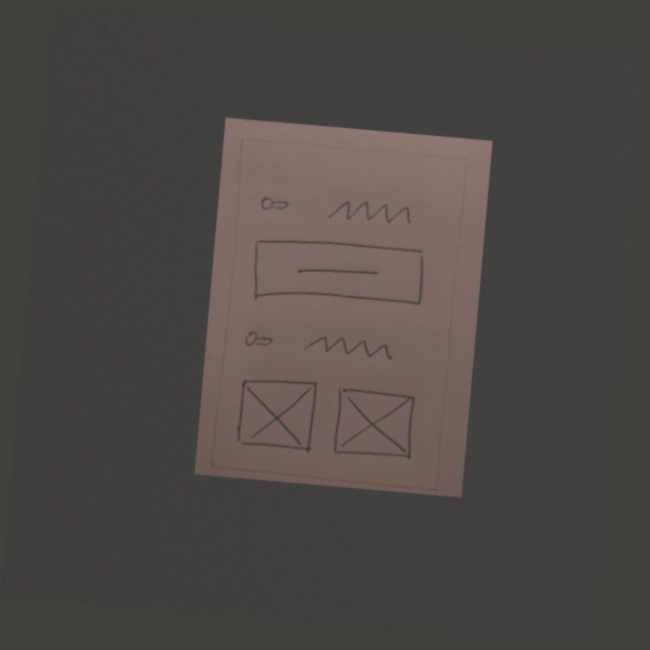button: (246, 233, 435, 317)
image: (323, 382, 427, 470), (233, 370, 323, 457)
switch: (253, 187, 300, 220), (236, 324, 280, 354)
text: (294, 328, 406, 369), (322, 192, 420, 230)
